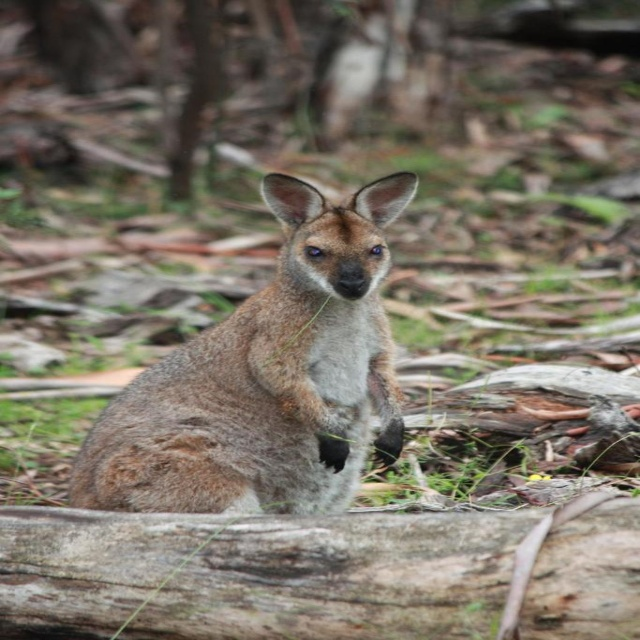Kangaroo: (69, 171, 419, 515)
